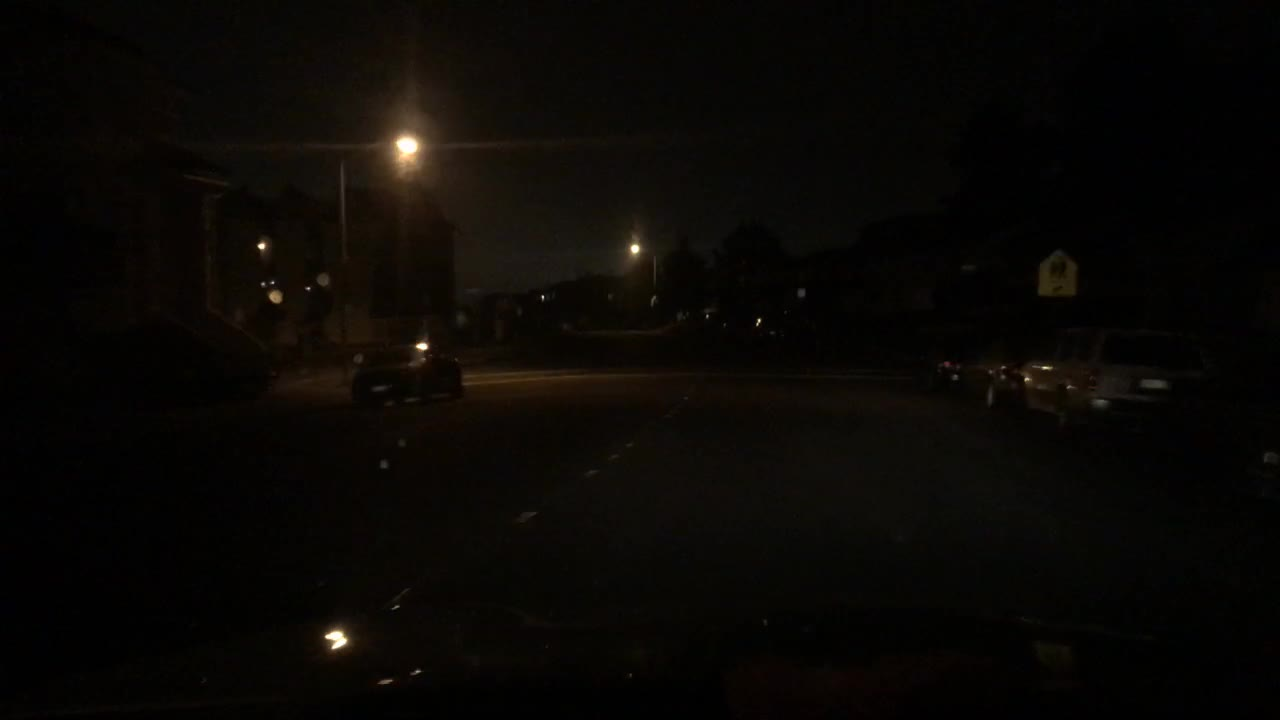car: (1005, 318, 1215, 435), (935, 330, 1043, 413), (348, 336, 461, 408), (751, 308, 801, 350), (716, 308, 749, 346)
traffic sign: (1035, 249, 1078, 296)
